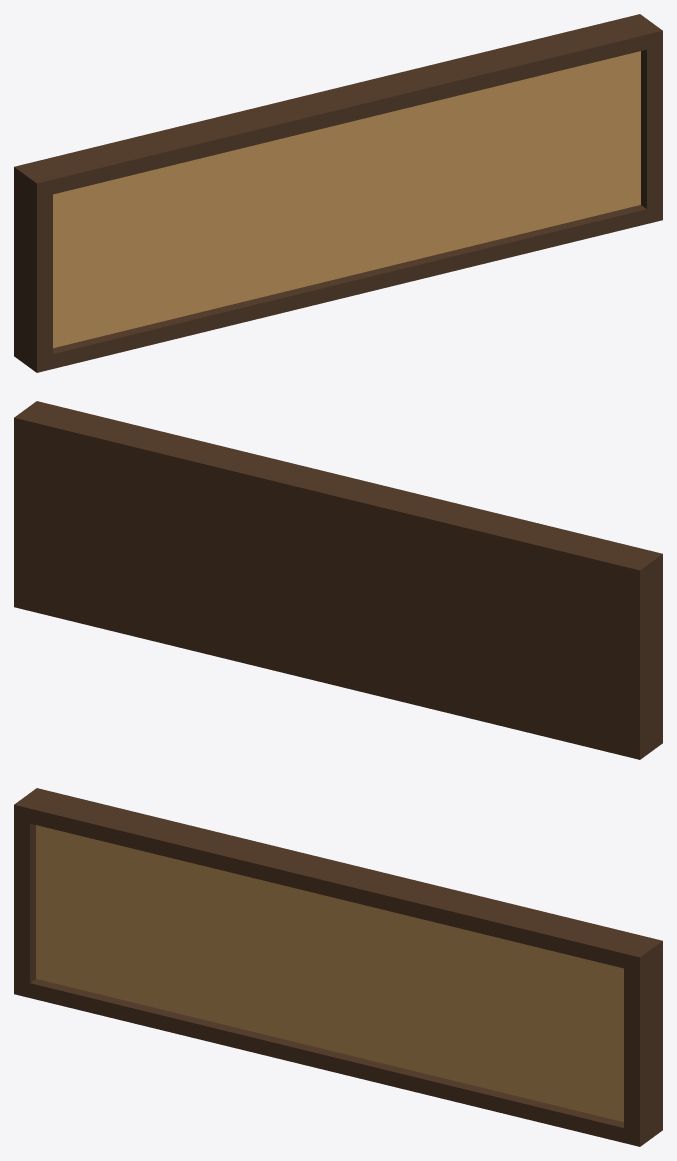
Rendered from Board.fbx.
3 renders of one model, top to bottom at view 1: azimuth 30°, elevation 25°; view 2: azimuth 150°, elevation 25°; view 3: azimuth 330°, elevation 25°, orthographic.
Visible parts, largest first — view 1: Object001; view 2: Object001; view 3: Object001.
Part boxes in pixels (<box>): Object001: <box>14,14,662,372</box>; Object001: <box>14,401,662,759</box>; Object001: <box>14,788,662,1146</box>.
Size of the model in its own units: 135 by 38.93 by 8.52.
